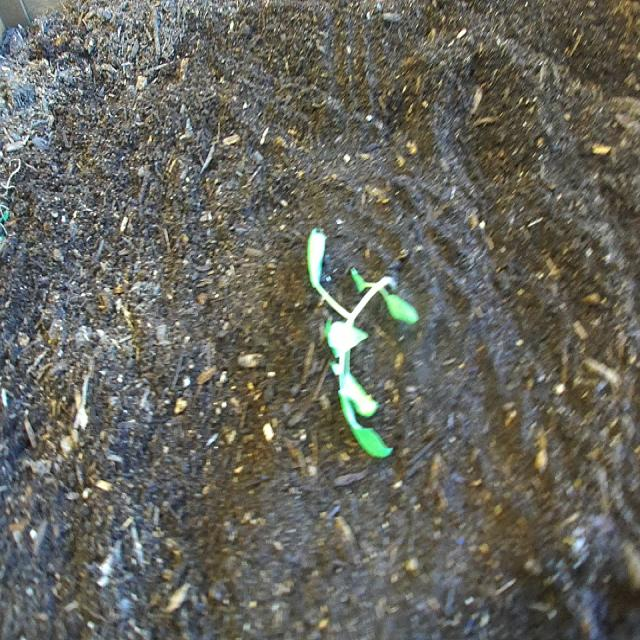Healthy: (296, 193, 443, 493)
